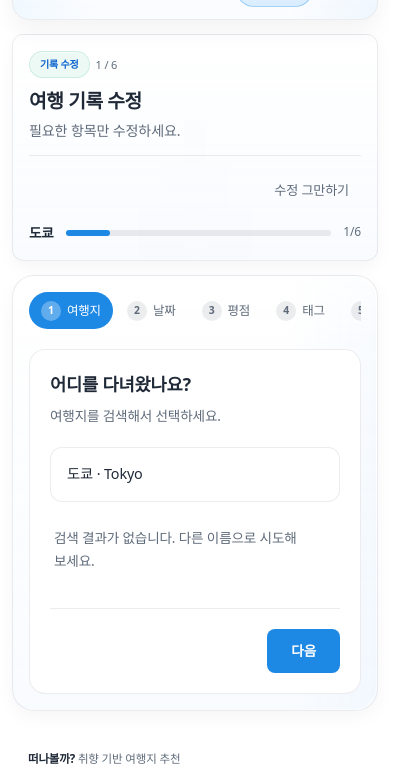
Test case: AccountHistoryCreateExperience destination autocomplete › adds custom hashtags, blocks duplicates, and removes them in the tags step
The image size is (402, 779).
Click the button with test id "new-history-next".
click(304, 651)  # box [267,629,340,673]
(page scrolled)
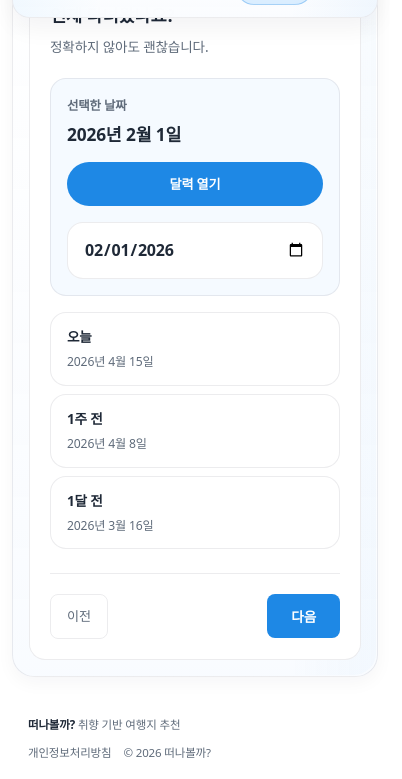
Click the button with test id "new-history-next".
click(304, 616)  # box [267,594,340,638]
(page scrolled)
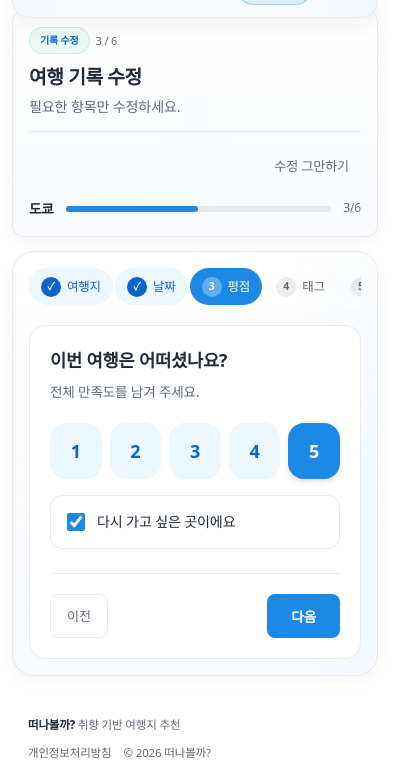
Click the button with test id "new-history-next".
click(304, 616)  # box [267,594,340,638]
(page scrolled)
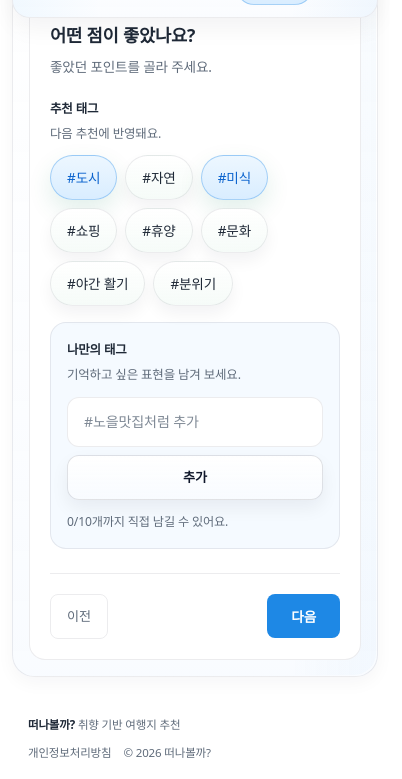
Type "#야경맛집" into the field with test id "new-history-custom-tag-input".
click(195, 422); type("#야경맛집")  # box [67,398,323,447]
Click the button with test id "new-history-custom-tag-add".
click(195, 478)  # box [67,455,323,500]
(page scrolled)
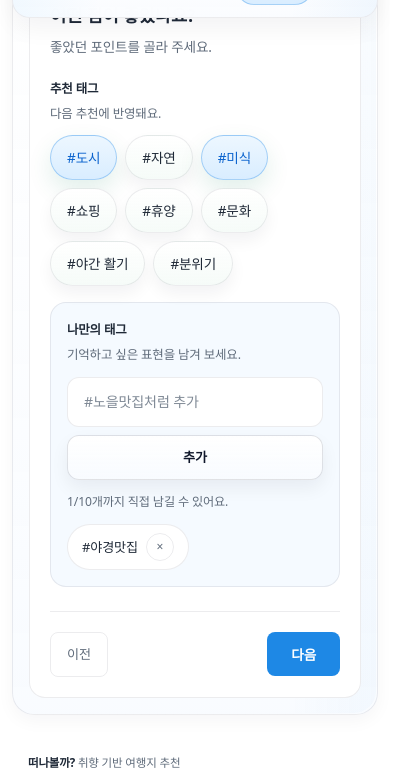
Check: the text "#야경맛집" is shown, box [82,536,138,559]
Type "야경맛집" into the field with test id "new-history-custom-tag-input".
click(195, 402); type("야경맛집")  # box [67,378,323,427]
Click the button with test id "new-history-custom-tag-add".
click(195, 458)  # box [67,435,323,480]
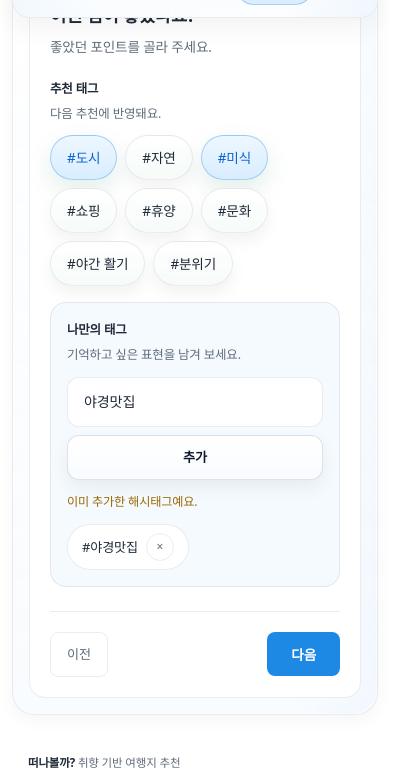
Check: the text "이미 추가한 해시태그예요." is shown, box [67,493,197,510]
Click the button with test id "new-history-custom-tag-remove-0".
click(160, 547)  # box [146,533,174,561]
(page scrolled)
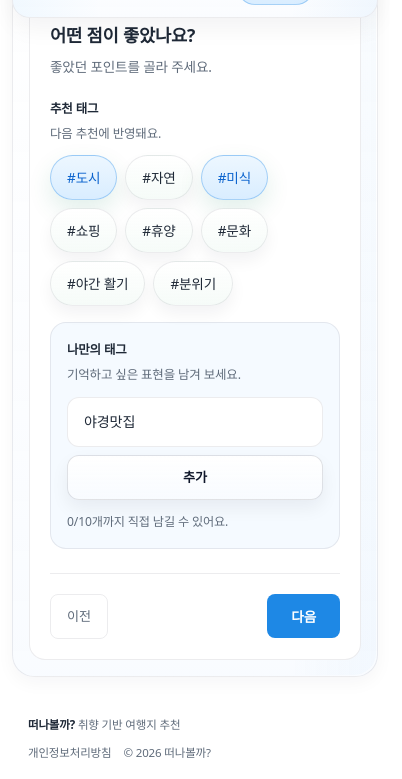
Check: the text "#야경맛집" is gone
